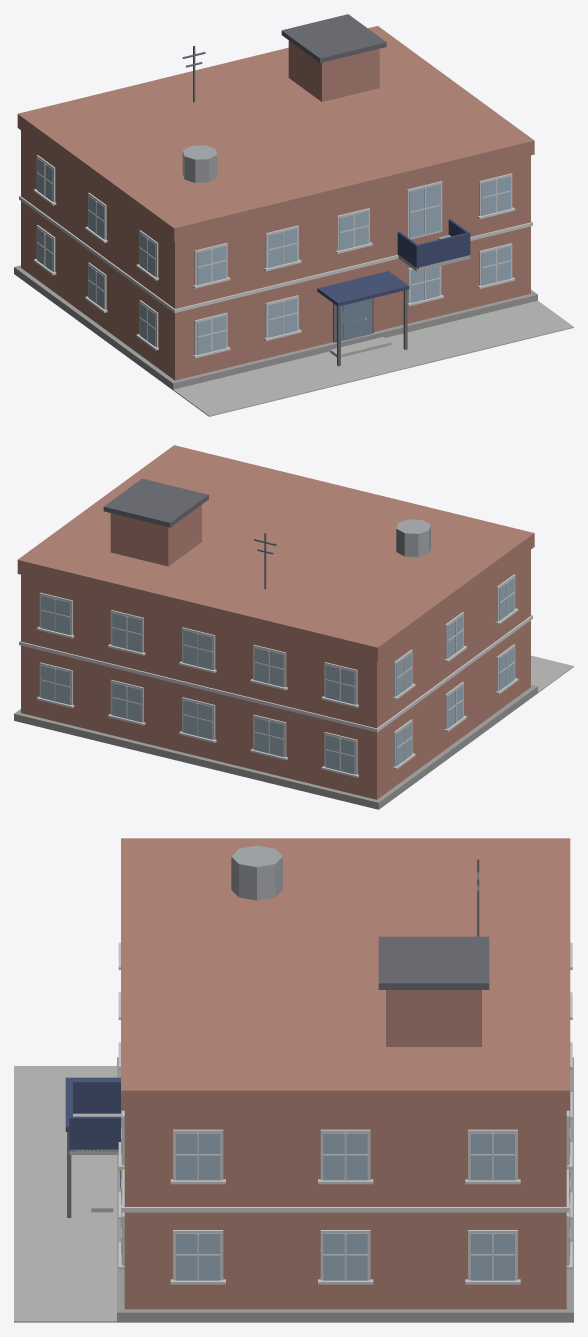
Rendered from Apartman_06.glb.
The picture shows the model from 3 angles, top to bottom: view 1: azimuth 30°, elevation 25°; view 2: azimuth 150°, elevation 25°; view 3: azimuth 270°, elevation 25°; orthographic projection. The views are drawn at different scales.
Parts seen in each view (by area): view 1: Apartman_06; view 2: Apartman_06; view 3: Apartman_06.
Part boxes in pixels (left/top/right/bottom): Apartman_06: left=14, top=14, right=573, bottom=416; Apartman_06: left=14, top=445, right=573, bottom=809; Apartman_06: left=14, top=838, right=573, bottom=1322.
Size of the model in its own units: 16.4 by 9.3 by 15.2.
